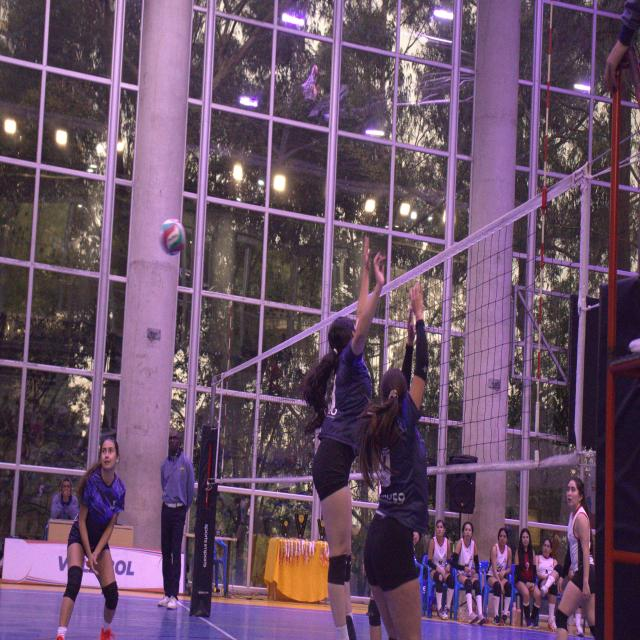volleyball: (160, 217, 186, 256)
